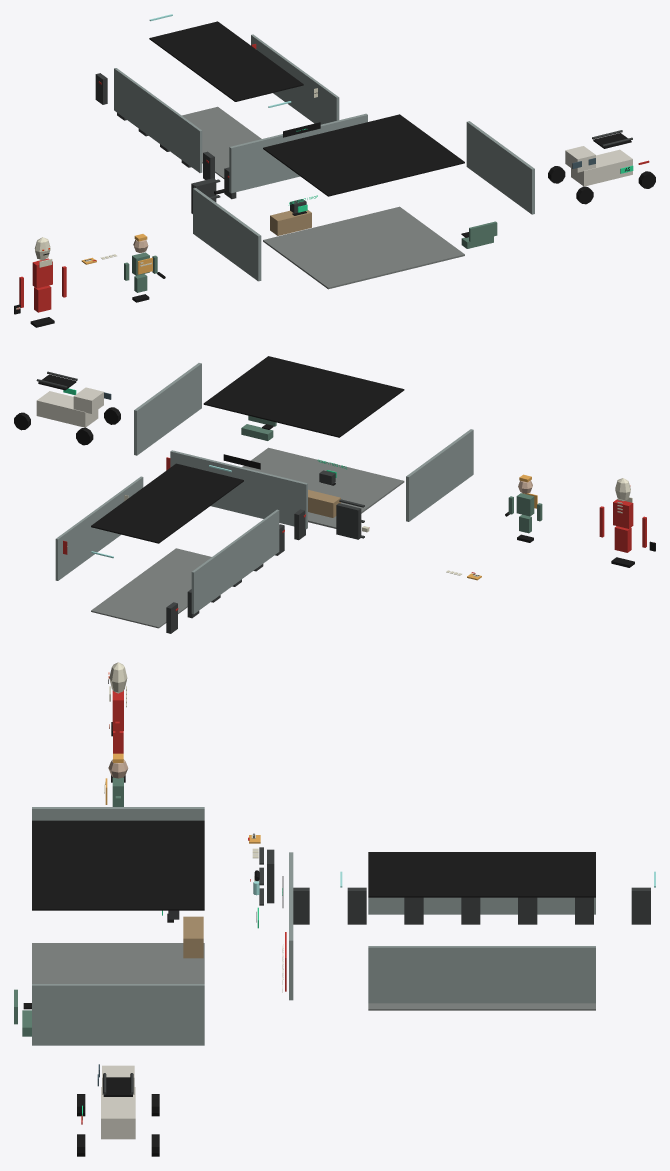
Rendered from accidentsquad_outsourced_civic_horror_kit.fbx.
3 views of the same model, one above another, from view 1: azimuth 30°, elevation 25°; view 2: azimuth 150°, elevation 25°; view 3: azimuth 270°, elevation 25° (orthographic). The views are drawn at different scales.
Visible parts, largest first — view 1: hq_floor_dirty_carpet, hq_low_ceiling_shadow, school_ceiling, school_left_wall, hq_right_wall, hq_left_wall, hq_back_wall, school_right_wall, school_hall_floor, van_body_dented, office_computer_desk, van_cabin_box (+1 smaller); view 2: hq_low_ceiling_shadow, school_ceiling, school_hall_floor, hq_floor_dirty_carpet, hq_back_wall, school_left_wall, hq_left_wall, hq_right_wall, school_right_wall, van_body_dented, equipment_shelf_back, office_computer_desk (+3 smaller); view 3: hq_low_ceiling_shadow, school_right_wall, hq_right_wall, school_ceiling, hq_floor_dirty_carpet, school_left_wall, hq_left_wall, school_hall_floor, van_body_dented, office_computer_desk, locker_bank_2, locker_bank_7 (+1 smaller).
Part boxes in pixels (x1,y1,x2,y2): hq_floor_dirty_carpet: (263,206,464,289); hq_low_ceiling_shadow: (263,114,464,196); school_ceiling: (149,21,303,101); school_left_wall: (114,68,202,172); hq_right_wall: (466,121,534,214); hq_left_wall: (193,188,261,281); hq_back_wall: (229,113,367,193); school_right_wall: (251,34,339,124); school_hall_floor: (182,106,261,178); van_body_dented: (571,149,632,186); office_computer_desk: (270,210,311,235); van_cabin_box: (565,146,595,172); hq_low_ceiling_shadow: (203,356,404,437); school_ceiling: (91,463,243,543); school_hall_floor: (91,548,211,628); hq_floor_dirty_carpet: (242,447,404,528); hq_back_wall: (170,450,307,529); school_left_wall: (191,509,279,614); hq_left_wall: (406,429,473,521); hq_right_wall: (134,363,201,455); school_right_wall: (55,476,143,580); van_body_dented: (36,391,98,427); equipment_shelf_back: (336,503,361,539); office_computer_desk: (308,489,340,517); hq_low_ceiling_shadow: (32,820,204,910); school_right_wall: (368,946,595,1003); hq_right_wall: (32,984,204,1045); school_ceiling: (368,852,595,897); hq_floor_dirty_carpet: (32,943,204,983); school_left_wall: (368,897,595,914); hq_left_wall: (32,807,204,820); school_hall_floor: (368,1003,595,1010); van_body_dented: (101,1087,135,1139); office_computer_desk: (183,916,203,958); locker_bank_2: (347,887,366,924); locker_bank_7: (631,887,650,924).
Bounding box in the file's own units: 2111 × 302 × 1412.
